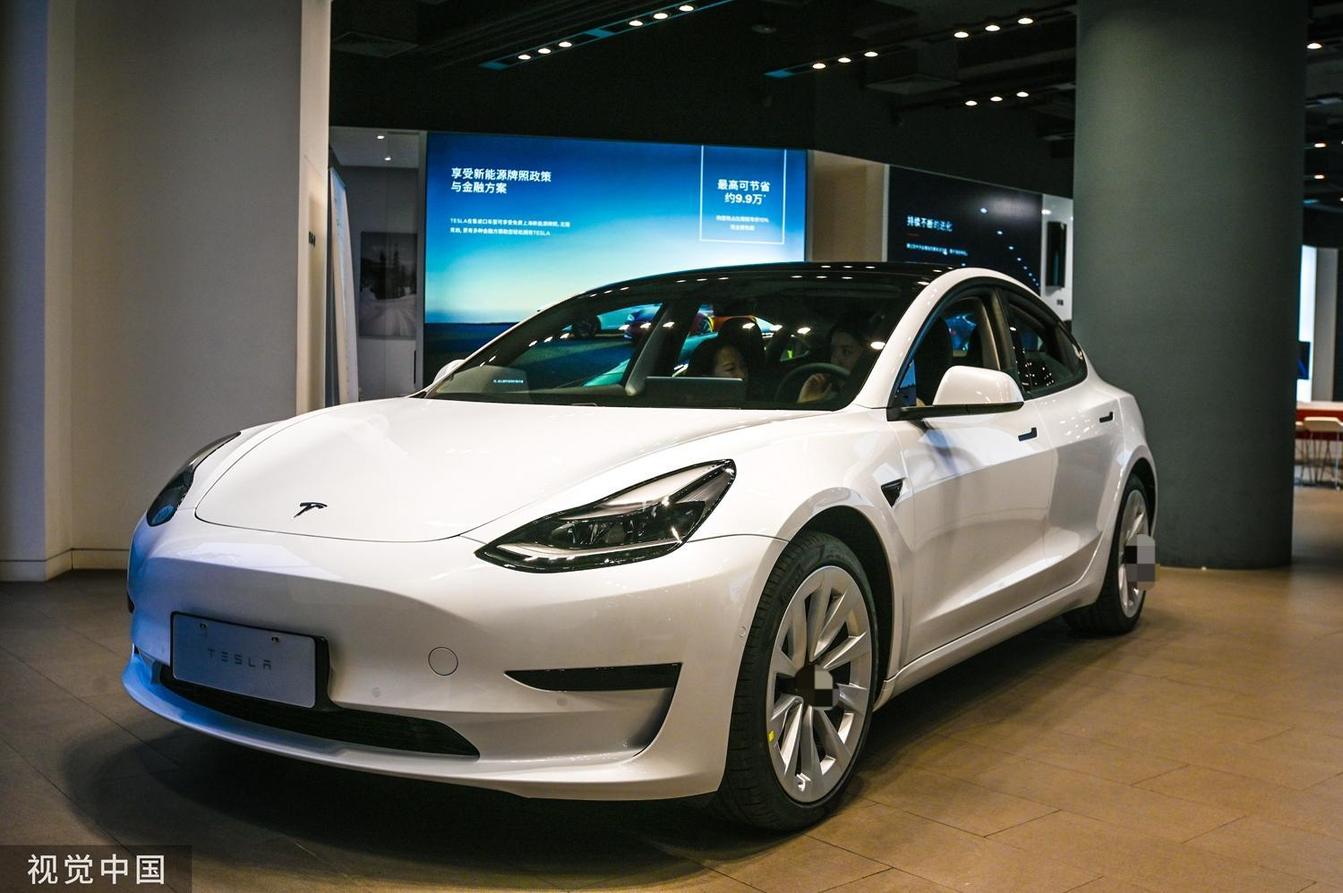Tesla: (291, 501, 329, 519)
